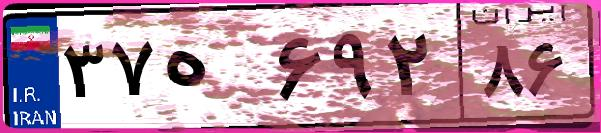2: (385, 28, 445, 110)
3: (57, 26, 110, 100)
6: (270, 28, 330, 110), (525, 38, 570, 115)
7: (110, 28, 158, 98)
8: (475, 38, 525, 113)
9: (330, 28, 385, 110)
ه: (158, 20, 270, 120)
